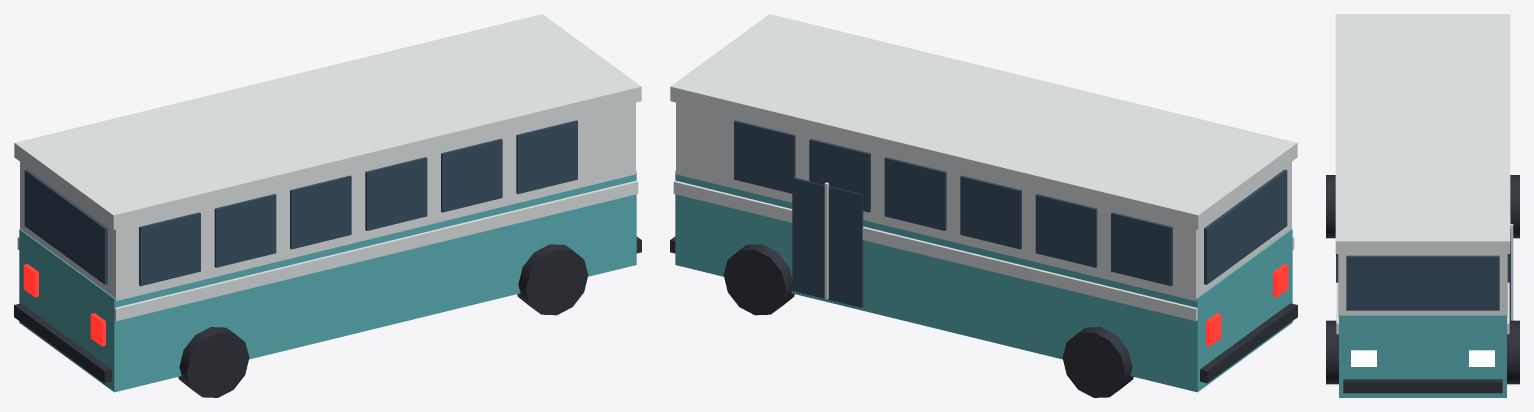
Rendered from bus.glb.
3 renders of one model, left to right at view 1: azimuth 30°, elevation 25°; view 2: azimuth 150°, elevation 25°; view 3: azimuth 270°, elevation 25°, orthographic. The views are drawn at different scales.
Parts seen in each view (by area): view 1: bus-roof, bus-paint, bus-glass, wheel-front-left, wheel-rear-left, bus-rubber, bus-tail; view 2: bus-roof, bus-paint, bus-glass, wheel-rear-right, wheel-front-right, bus-rubber, bus-tail; view 3: bus-roof, bus-paint, bus-glass, bus-rubber, bus-head, wheel-front-right, wheel-front-left, wheel-rear-left, wheel-rear-right.
Boxes of the visible parts, x1,y1,x2,y2 form: bus-roof: (14, 14, 641, 321); bus-paint: (19, 171, 636, 392); bus-glass: (24, 120, 577, 286); wheel-front-left: (517, 244, 588, 315); wheel-rear-left: (178, 327, 249, 397); bus-rubber: (14, 236, 641, 383); bus-tail: (23, 264, 105, 346); bus-roof: (670, 14, 1297, 321); bus-paint: (675, 171, 1292, 392); bus-glass: (734, 120, 1287, 307); wheel-rear-right: (1062, 327, 1133, 397); wheel-front-right: (723, 244, 794, 315); bus-rubber: (670, 236, 1297, 383); bus-tail: (1206, 264, 1288, 346); bus-roof: (1335, 14, 1513, 334); bus-paint: (1339, 315, 1506, 397); bus-glass: (1336, 212, 1510, 320); bus-rubber: (1343, 379, 1502, 393); bus-head: (1351, 350, 1494, 366); wheel-front-right: (1507, 320, 1519, 384); wheel-front-left: (1326, 320, 1338, 384); wheel-rear-left: (1326, 175, 1335, 238); wheel-rear-right: (1510, 175, 1519, 238).
Bounding box in the file's own units: 4.63 × 1.67 × 1.64.
